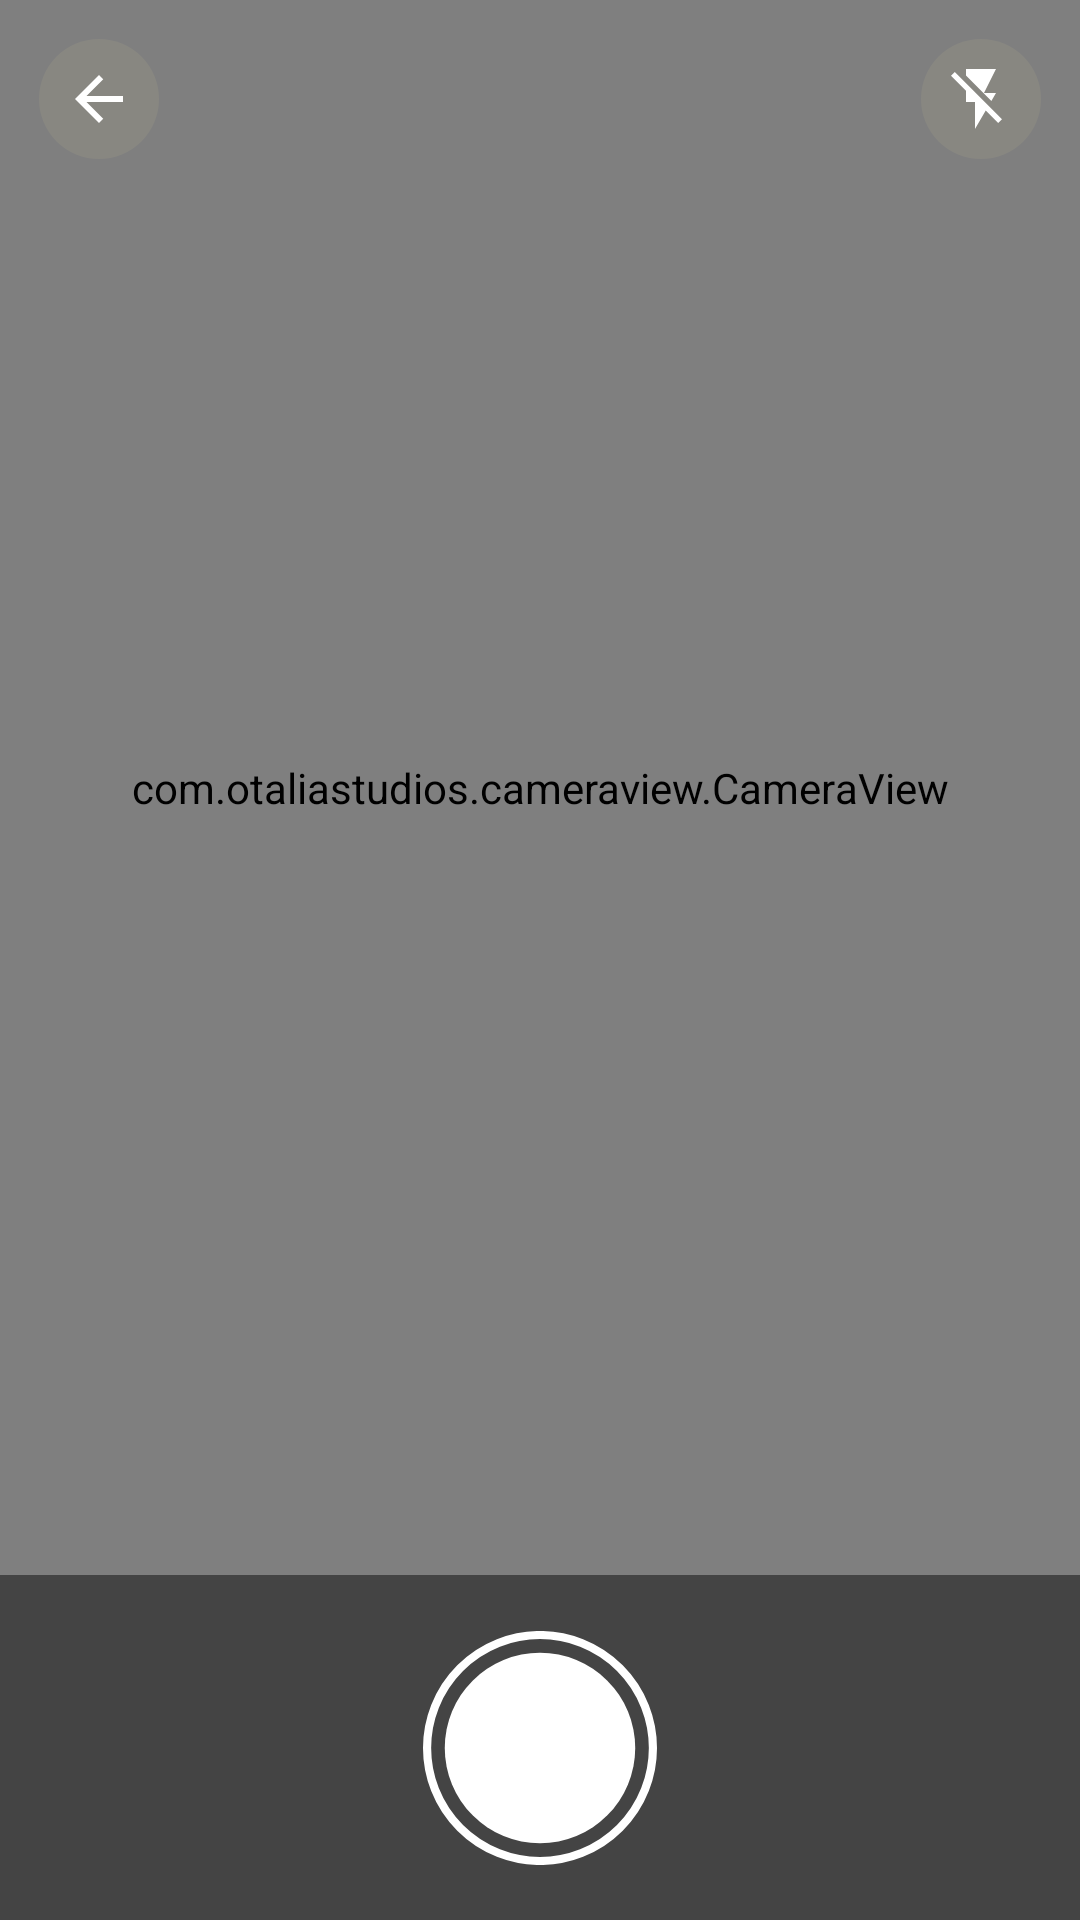

Named icons in this screenshot (1080px x 1920px) and their bounding boxes, (x1, y1, x2, y2):
back top: (39, 39, 159, 159)
camera clcik one: (423, 1631, 657, 1865)
flash off: (921, 39, 1041, 159)
